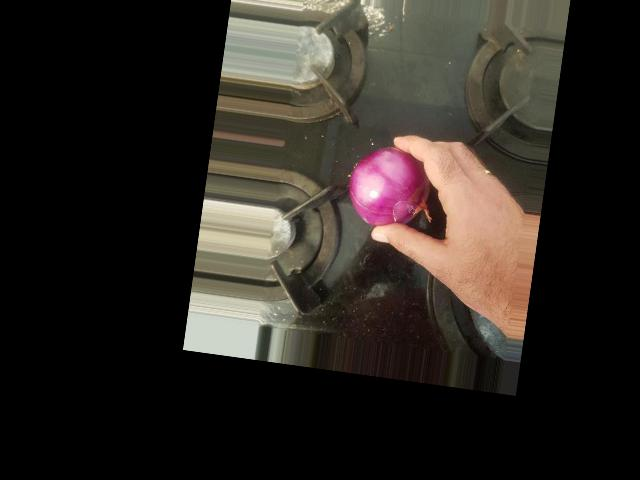onion: (310, 69, 405, 164)
